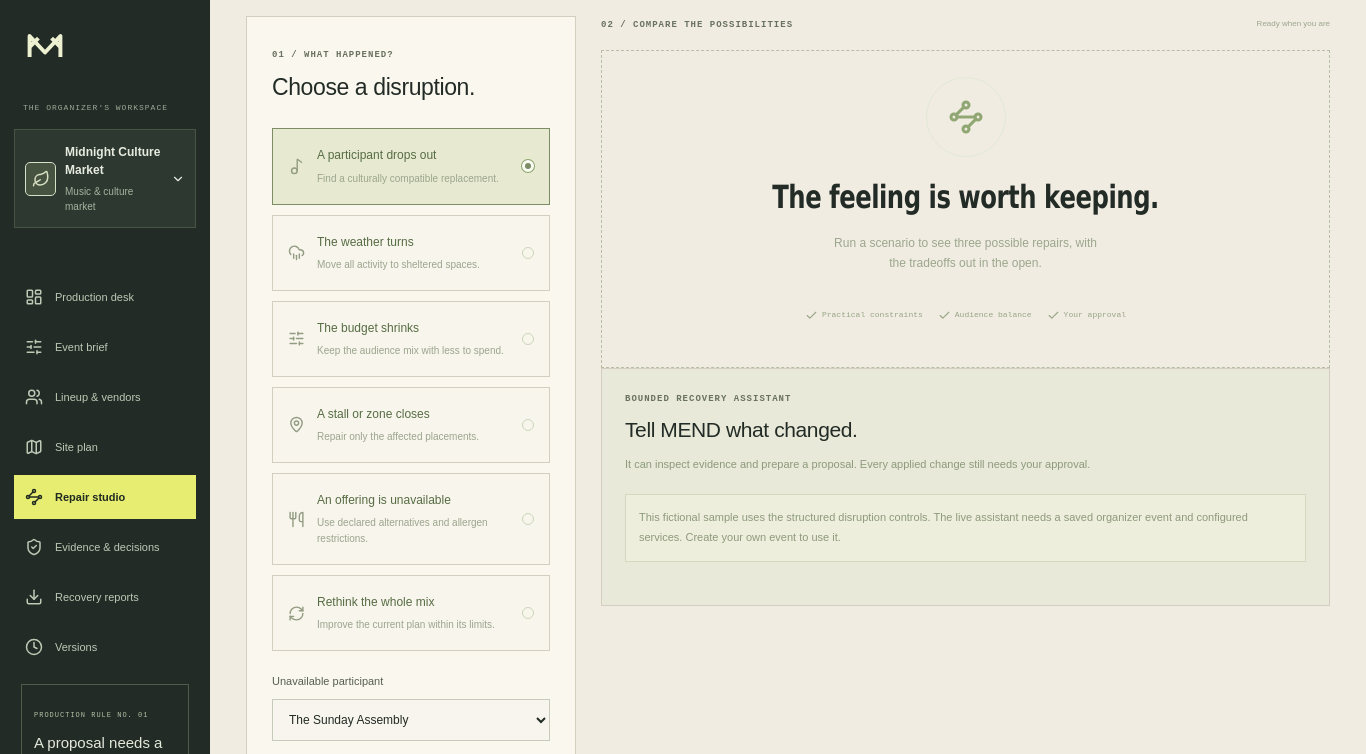
Test: public sample offers individual closure and organizer-controlled venue editing
(page scrolled)
Click the button "A stall or zone closes Repair only the affected placements.": (373, 414) [272,387,550,463]
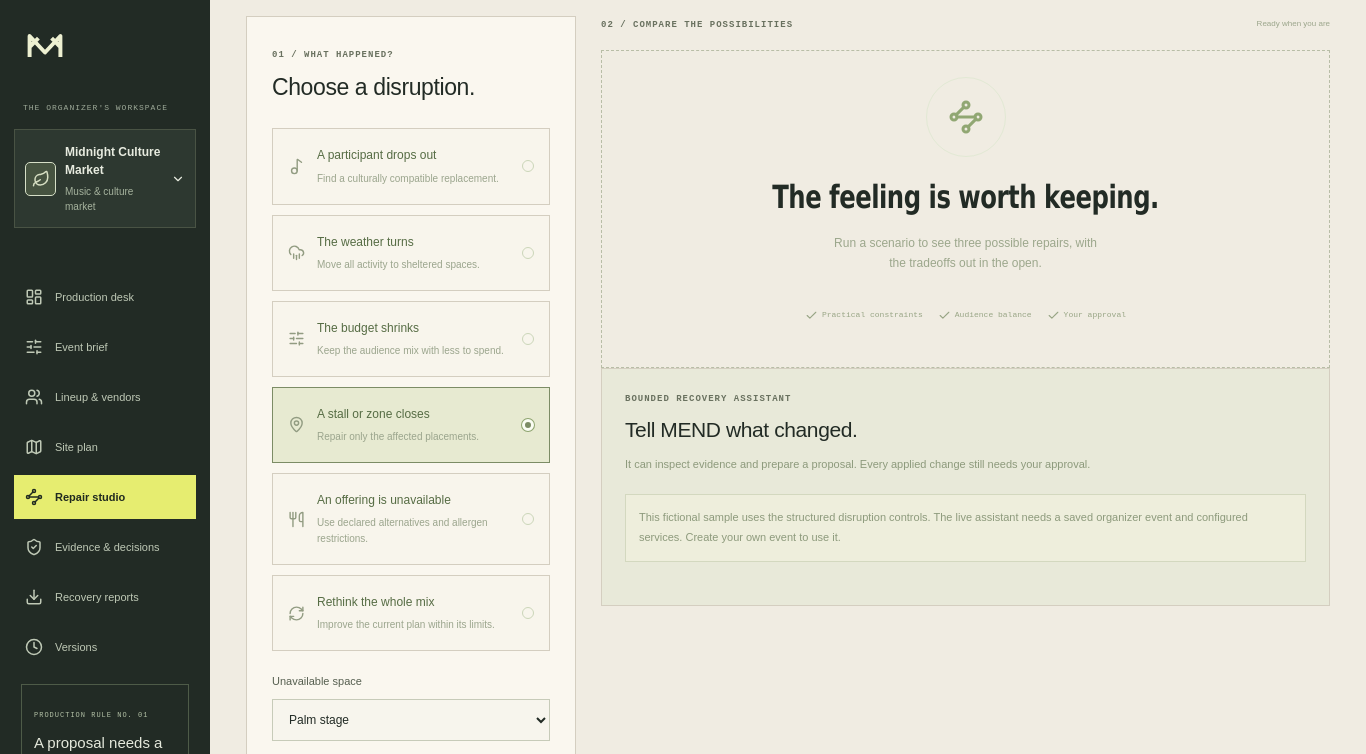
Result: the text "Unavailable space" is shown at [272,673,550,741]
Click the button "Site plan": (105, 447) [14,425,196,469]
(page scrolled)
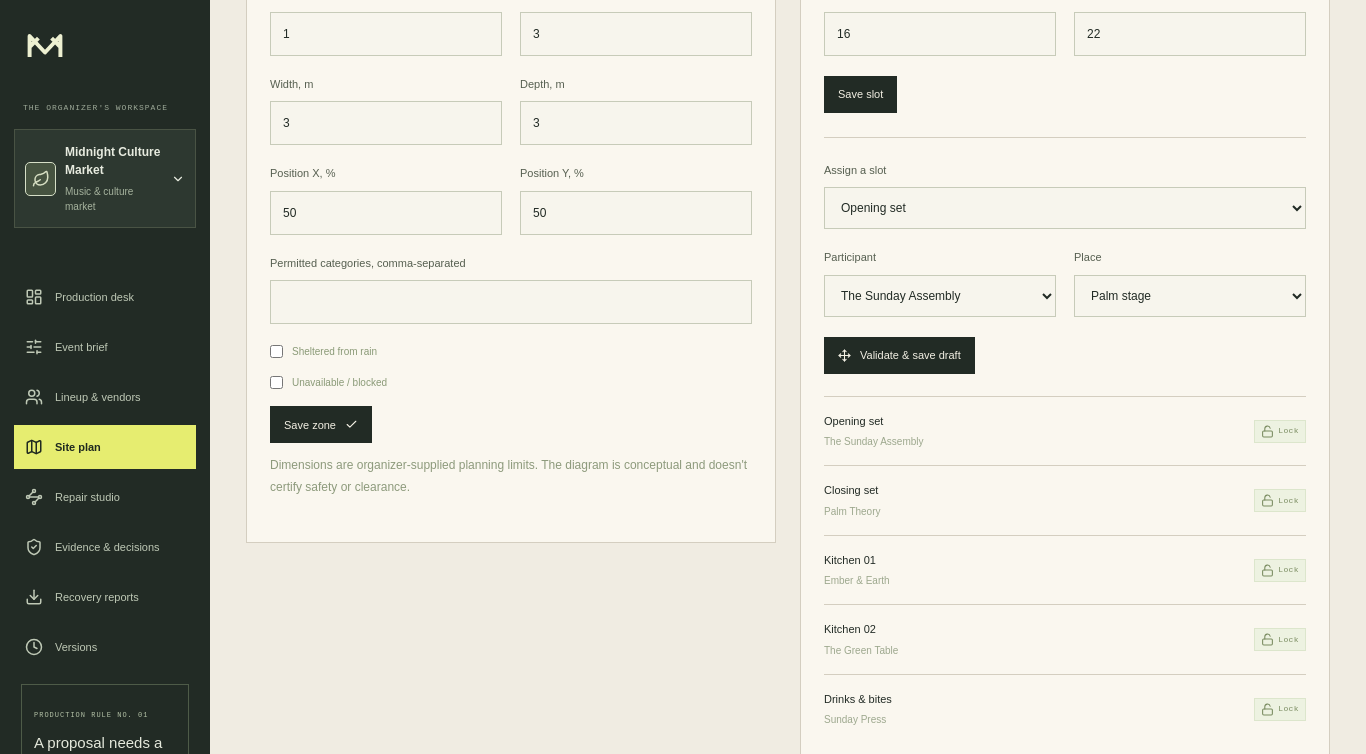
Result: the button "Save zone" is shown at [270,406,372,443]
